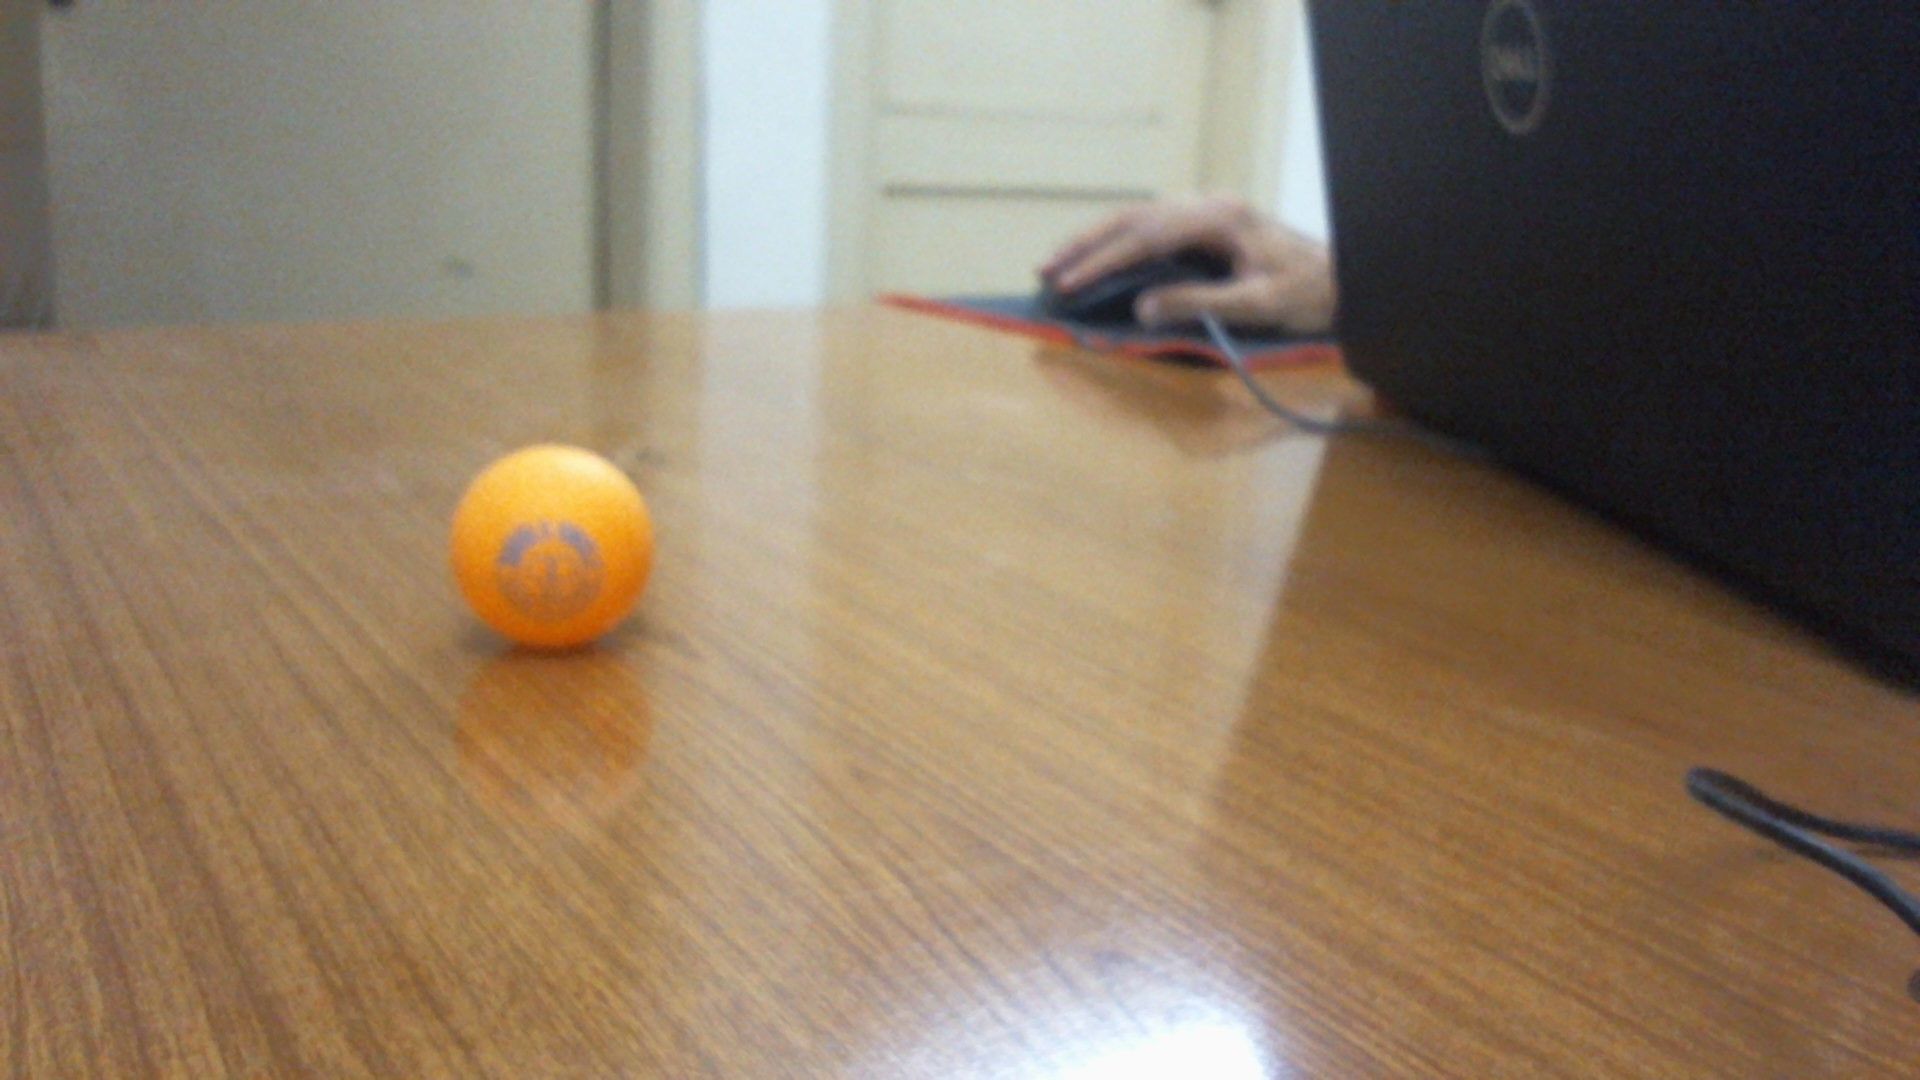ball: (447, 442, 665, 654)
